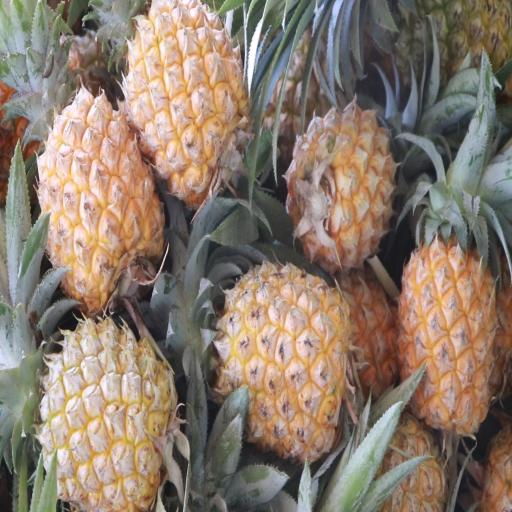Pineapple - v8 v1: (40, 96, 164, 308), (218, 262, 349, 458), (118, 2, 250, 196), (38, 320, 172, 511), (398, 231, 496, 432), (287, 102, 394, 266)
